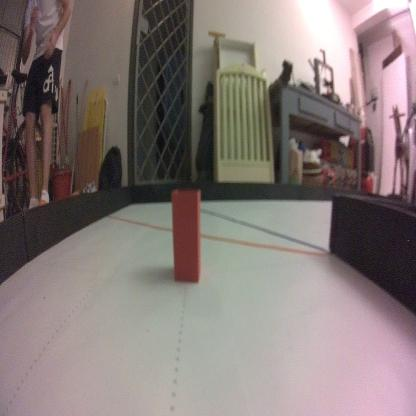red: (170, 184, 203, 288)
